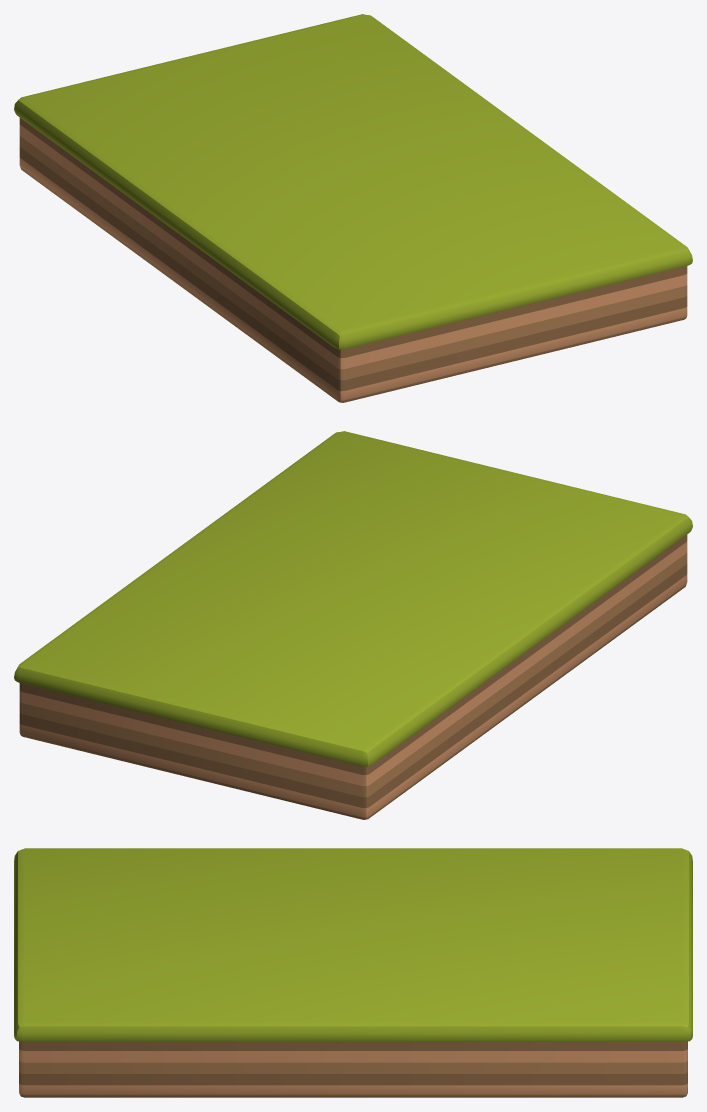
Rendered from Cube_Grass_Single.fbx.
3 views of the same model, one above another, from view 1: azimuth 30°, elevation 25°; view 2: azimuth 150°, elevation 25°; view 3: azimuth 270°, elevation 25° (orthographic). The views are drawn at different scales.
Parts seen in each view (by area): view 1: Cube_Grass_Single; view 2: Cube_Grass_Single; view 3: Cube_Grass_Single.
Part boxes in pixels (x1,y1,x2,y2): Cube_Grass_Single: (14, 14, 692, 402); Cube_Grass_Single: (14, 431, 692, 819); Cube_Grass_Single: (14, 848, 692, 1097).
Bounding box in the file's own units: 1023 × 200 × 1623.
